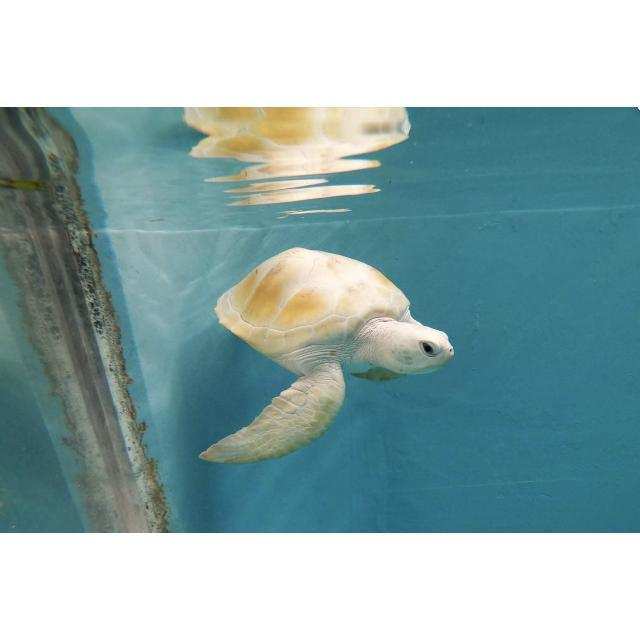turtle: (199, 247, 456, 463)
